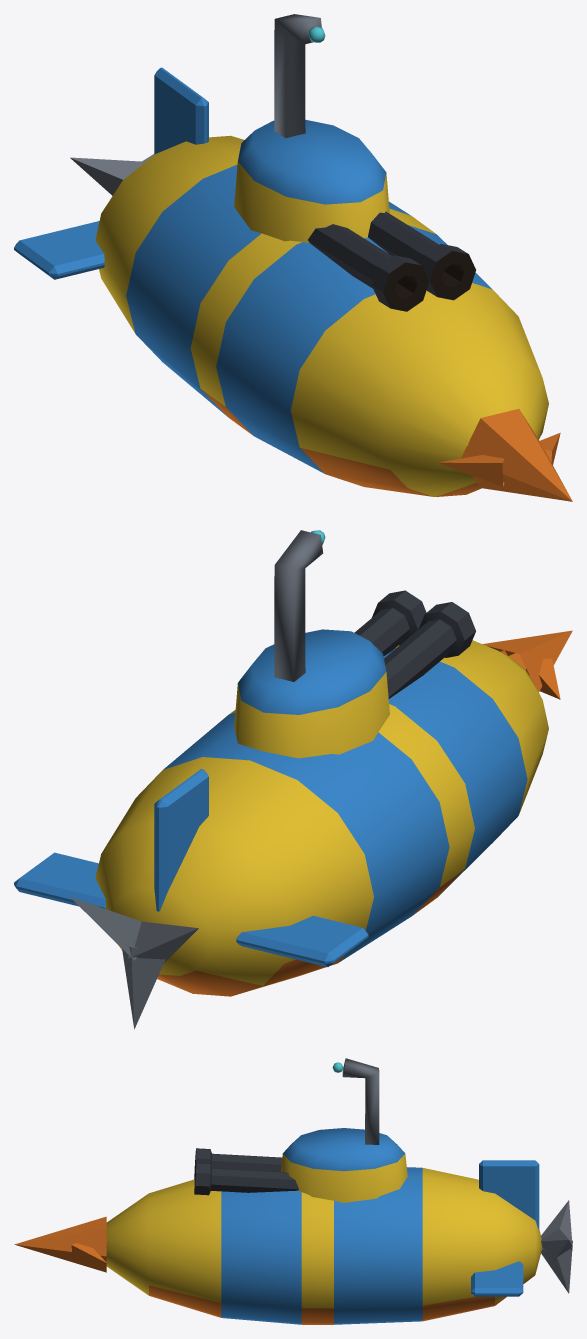
3 views of the same model, one above another, from view 1: azimuth 30°, elevation 25°; view 2: azimuth 150°, elevation 25°; view 3: azimuth 270°, elevation 25° (orthographic). The views are drawn at different scales.
Visible parts, largest first — view 1: submarino_0_base, submarino_1_torreta; view 2: submarino_0_base, submarino_1_torreta; view 3: submarino_0_base, submarino_1_torreta.
Part boxes in pixels (<box>): submarino_0_base: <box>14,67,572,501</box>; submarino_1_torreta: <box>234,14,475,311</box>; submarino_0_base: <box>14,630,572,1029</box>; submarino_1_torreta: <box>234,530,475,758</box>; submarino_0_base: <box>14,1160,572,1324</box>; submarino_1_torreta: <box>194,1058,407,1202</box>.
Size of the model in its own units: 0.58 by 0.6953 by 1.39.
